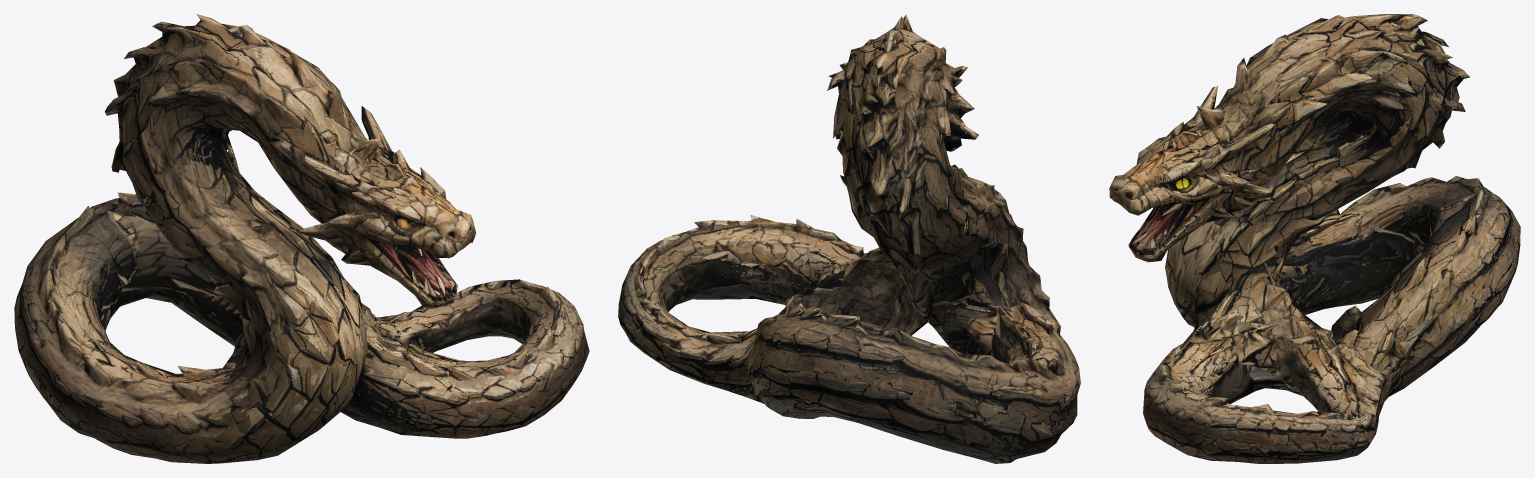
Rendered from Boa.glb.
3 views of the same model, side by side, from view 1: azimuth 30°, elevation 25°; view 2: azimuth 150°, elevation 25°; view 3: azimuth 270°, elevation 25° (orthographic). The views are drawn at different scales.
Parts seen in each view (by area): view 1: texture_mapping; view 2: texture_mapping; view 3: texture_mapping.
Part boxes in pixels (left/top/right/bottom): texture_mapping: left=14, top=14, right=589, bottom=463; texture_mapping: left=618, top=14, right=1080, bottom=463; texture_mapping: left=1109, top=14, right=1520, bottom=463.
Size of the model in its own units: 0.994 by 0.7823 by 0.8288.
Materials: 1 (1 with a texture image).
